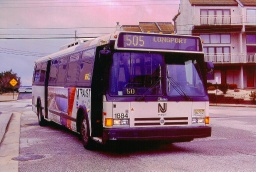bus: (30, 30, 215, 148)
